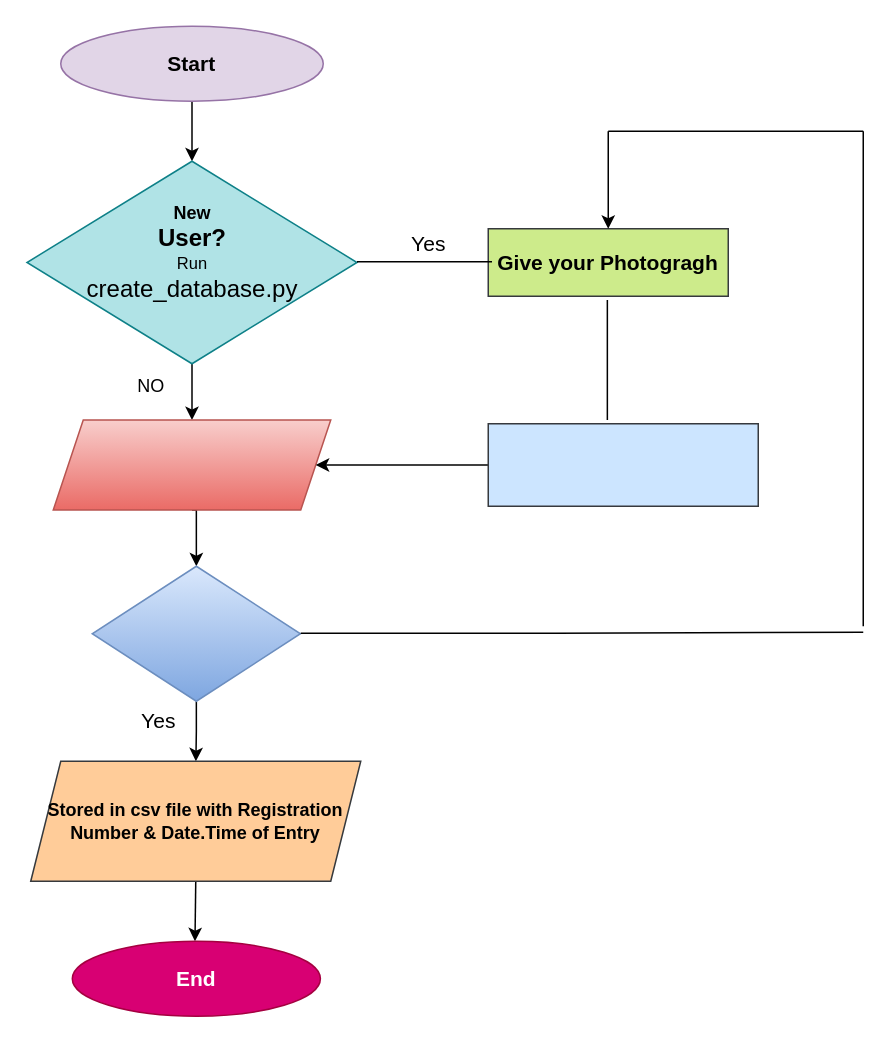
Image size: 891x1043. Some labels were removed from this diagram. Here are the shapes that lost their labels. From the top down, the centre of each, then its label:
At (191,464): "Recognize the face run face_recognize.py".
At (622,464): "Store the face data in folder on your name".
At (195,633): "Face Recognized".
